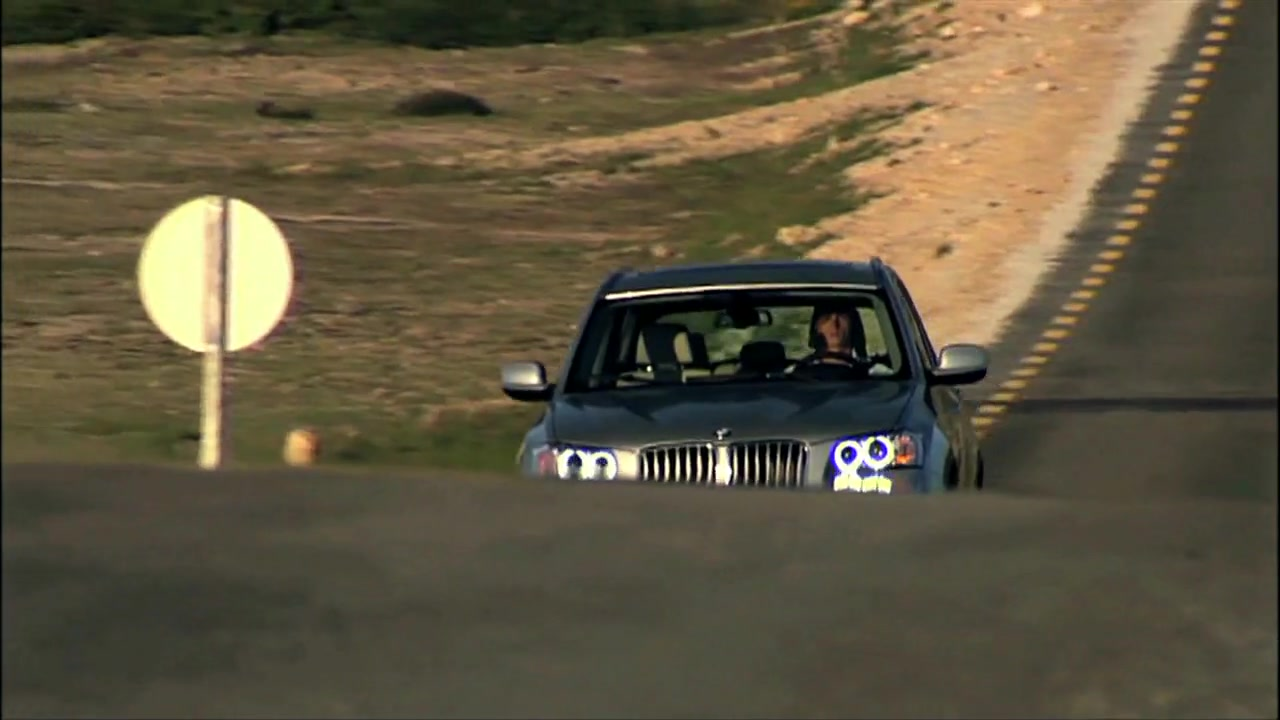car: (501, 254, 997, 502)
